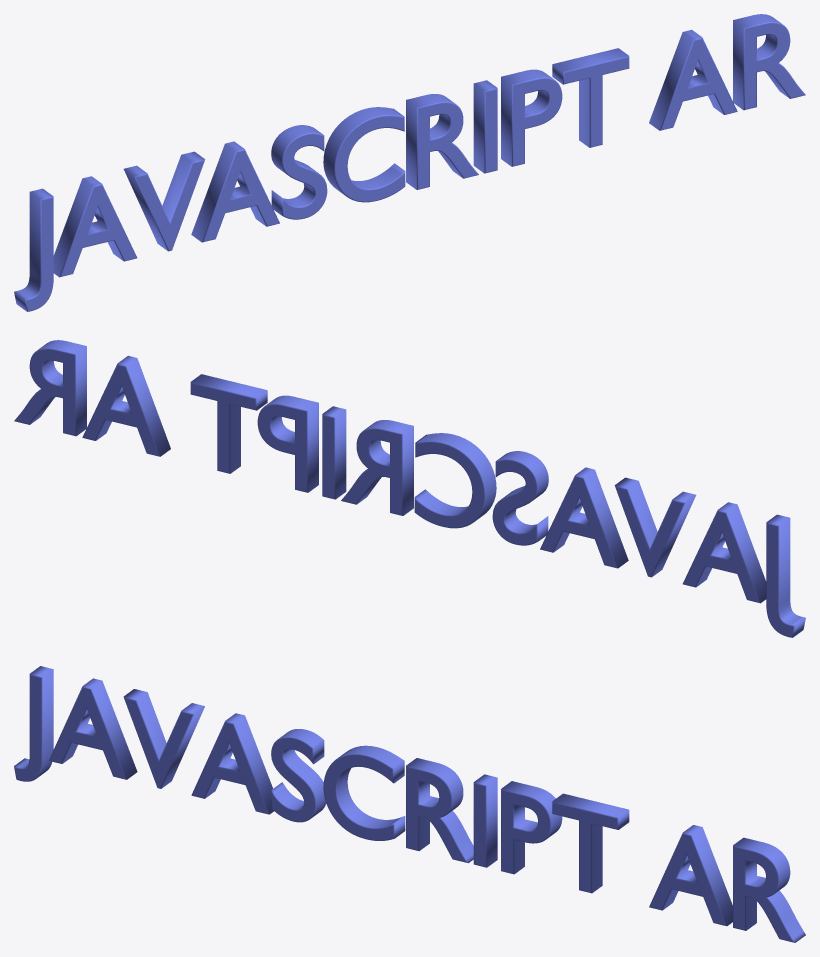
3 renders of one model, top to bottom at view 1: azimuth 30°, elevation 25°; view 2: azimuth 150°, elevation 25°; view 3: azimuth 330°, elevation 25°, orthographic.
Visible parts, largest first — view 1: Text; view 2: Text; view 3: Text.
Part boxes in pixels (x1=…): Text: x1=14, y1=14, x2=805, y2=311; Text: x1=14, y1=340, x2=805, y2=637; Text: x1=14, y1=666, x2=805, y2=942.
Bounding box in the file's own units: 6.96 × 0.941 × 0.18.
